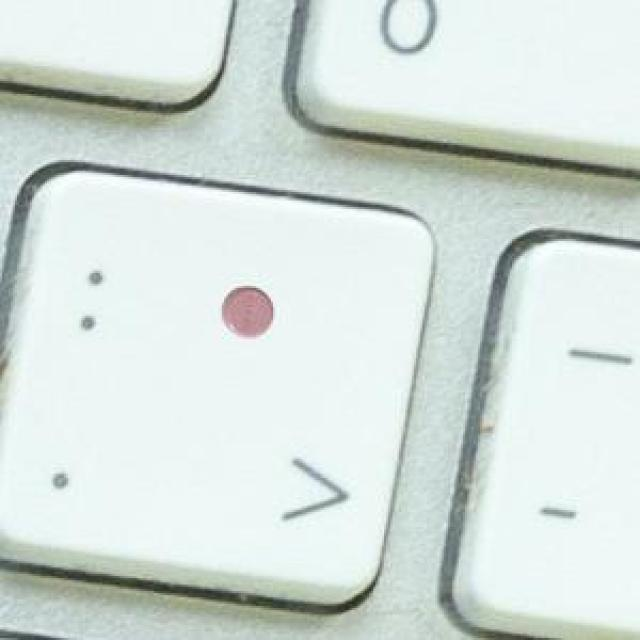Kremil_S: (215, 274, 281, 345)
